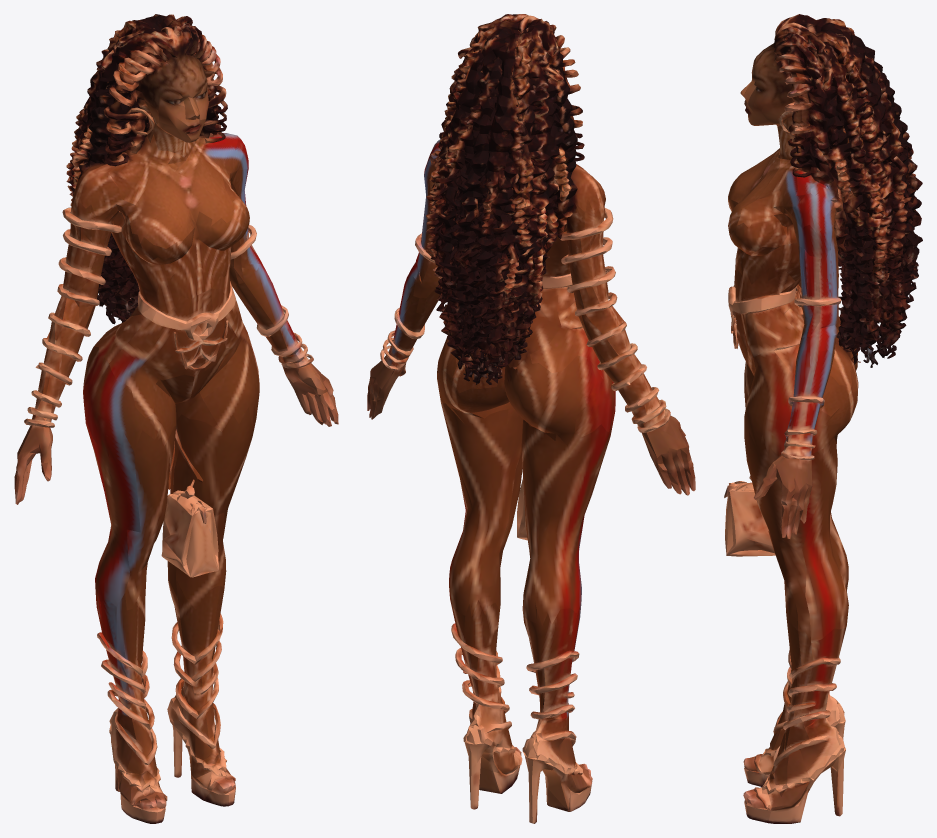
3 renders of one model, left to right at view 1: azimuth 30°, elevation 25°; view 2: azimuth 150°, elevation 25°; view 3: azimuth 270°, elevation 25°, orthographic.
Parts seen in each view (by area): view 1: Mesh_0; view 2: Mesh_0; view 3: Mesh_0.
Part boxes in pixels (x1=…): Mesh_0: x1=14, y1=14, x2=338, y2=823; Mesh_0: x1=367, y1=14, x2=695, y2=823; Mesh_0: x1=724, y1=14, x2=922, y2=823.
Size of the model in its own units: 0.8326 by 1.9 by 0.4416.
1 material, 1 textured.
